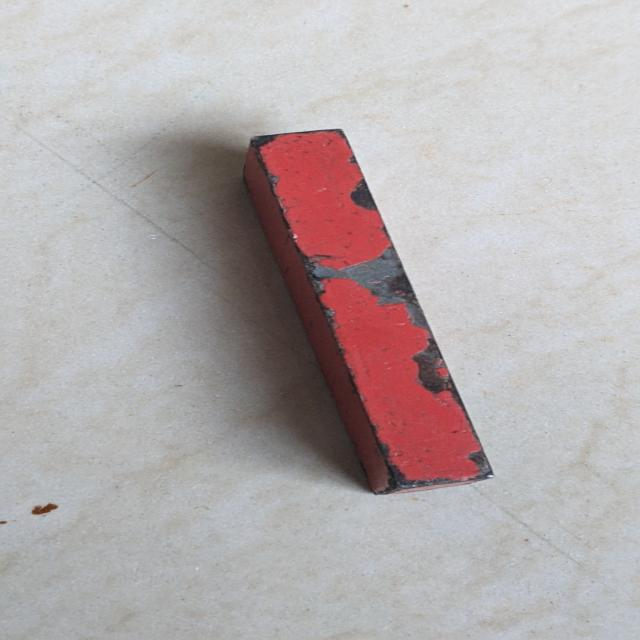Magnet: (209, 122, 510, 502)
